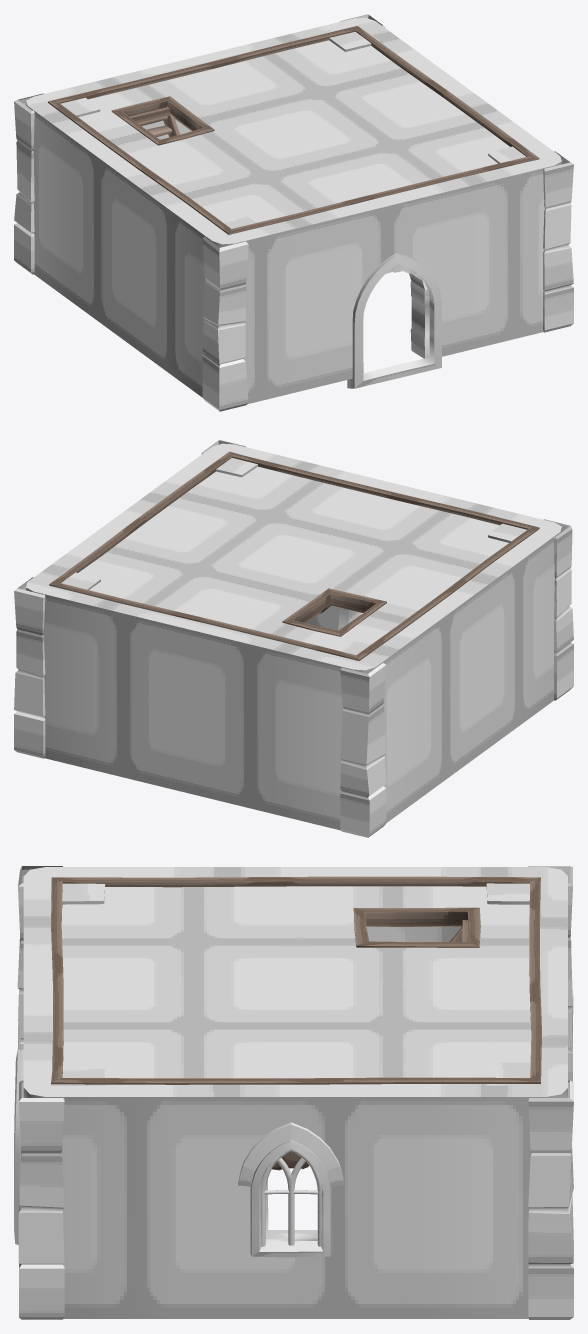
File: SM_TowerE_Mid1Door.fbx
3 views of the same model, one above another, from view 1: azimuth 30°, elevation 25°; view 2: azimuth 150°, elevation 25°; view 3: azimuth 270°, elevation 25° (orthographic). The views are drawn at different scales.
Visible parts, largest first — view 1: SM_TowerE_Mid1Door_LOD0; view 2: SM_TowerE_Mid1Door_LOD0; view 3: SM_TowerE_Mid1Door_LOD0.
Part boxes in pixels (left/top/right/bottom): SM_TowerE_Mid1Door_LOD0: left=14, top=14, right=573, bottom=411; SM_TowerE_Mid1Door_LOD0: left=14, top=440, right=573, bottom=837; SM_TowerE_Mid1Door_LOD0: left=14, top=866, right=573, bottom=1319.
Size of the model in its own units: 1029 by 1029 by 494.
